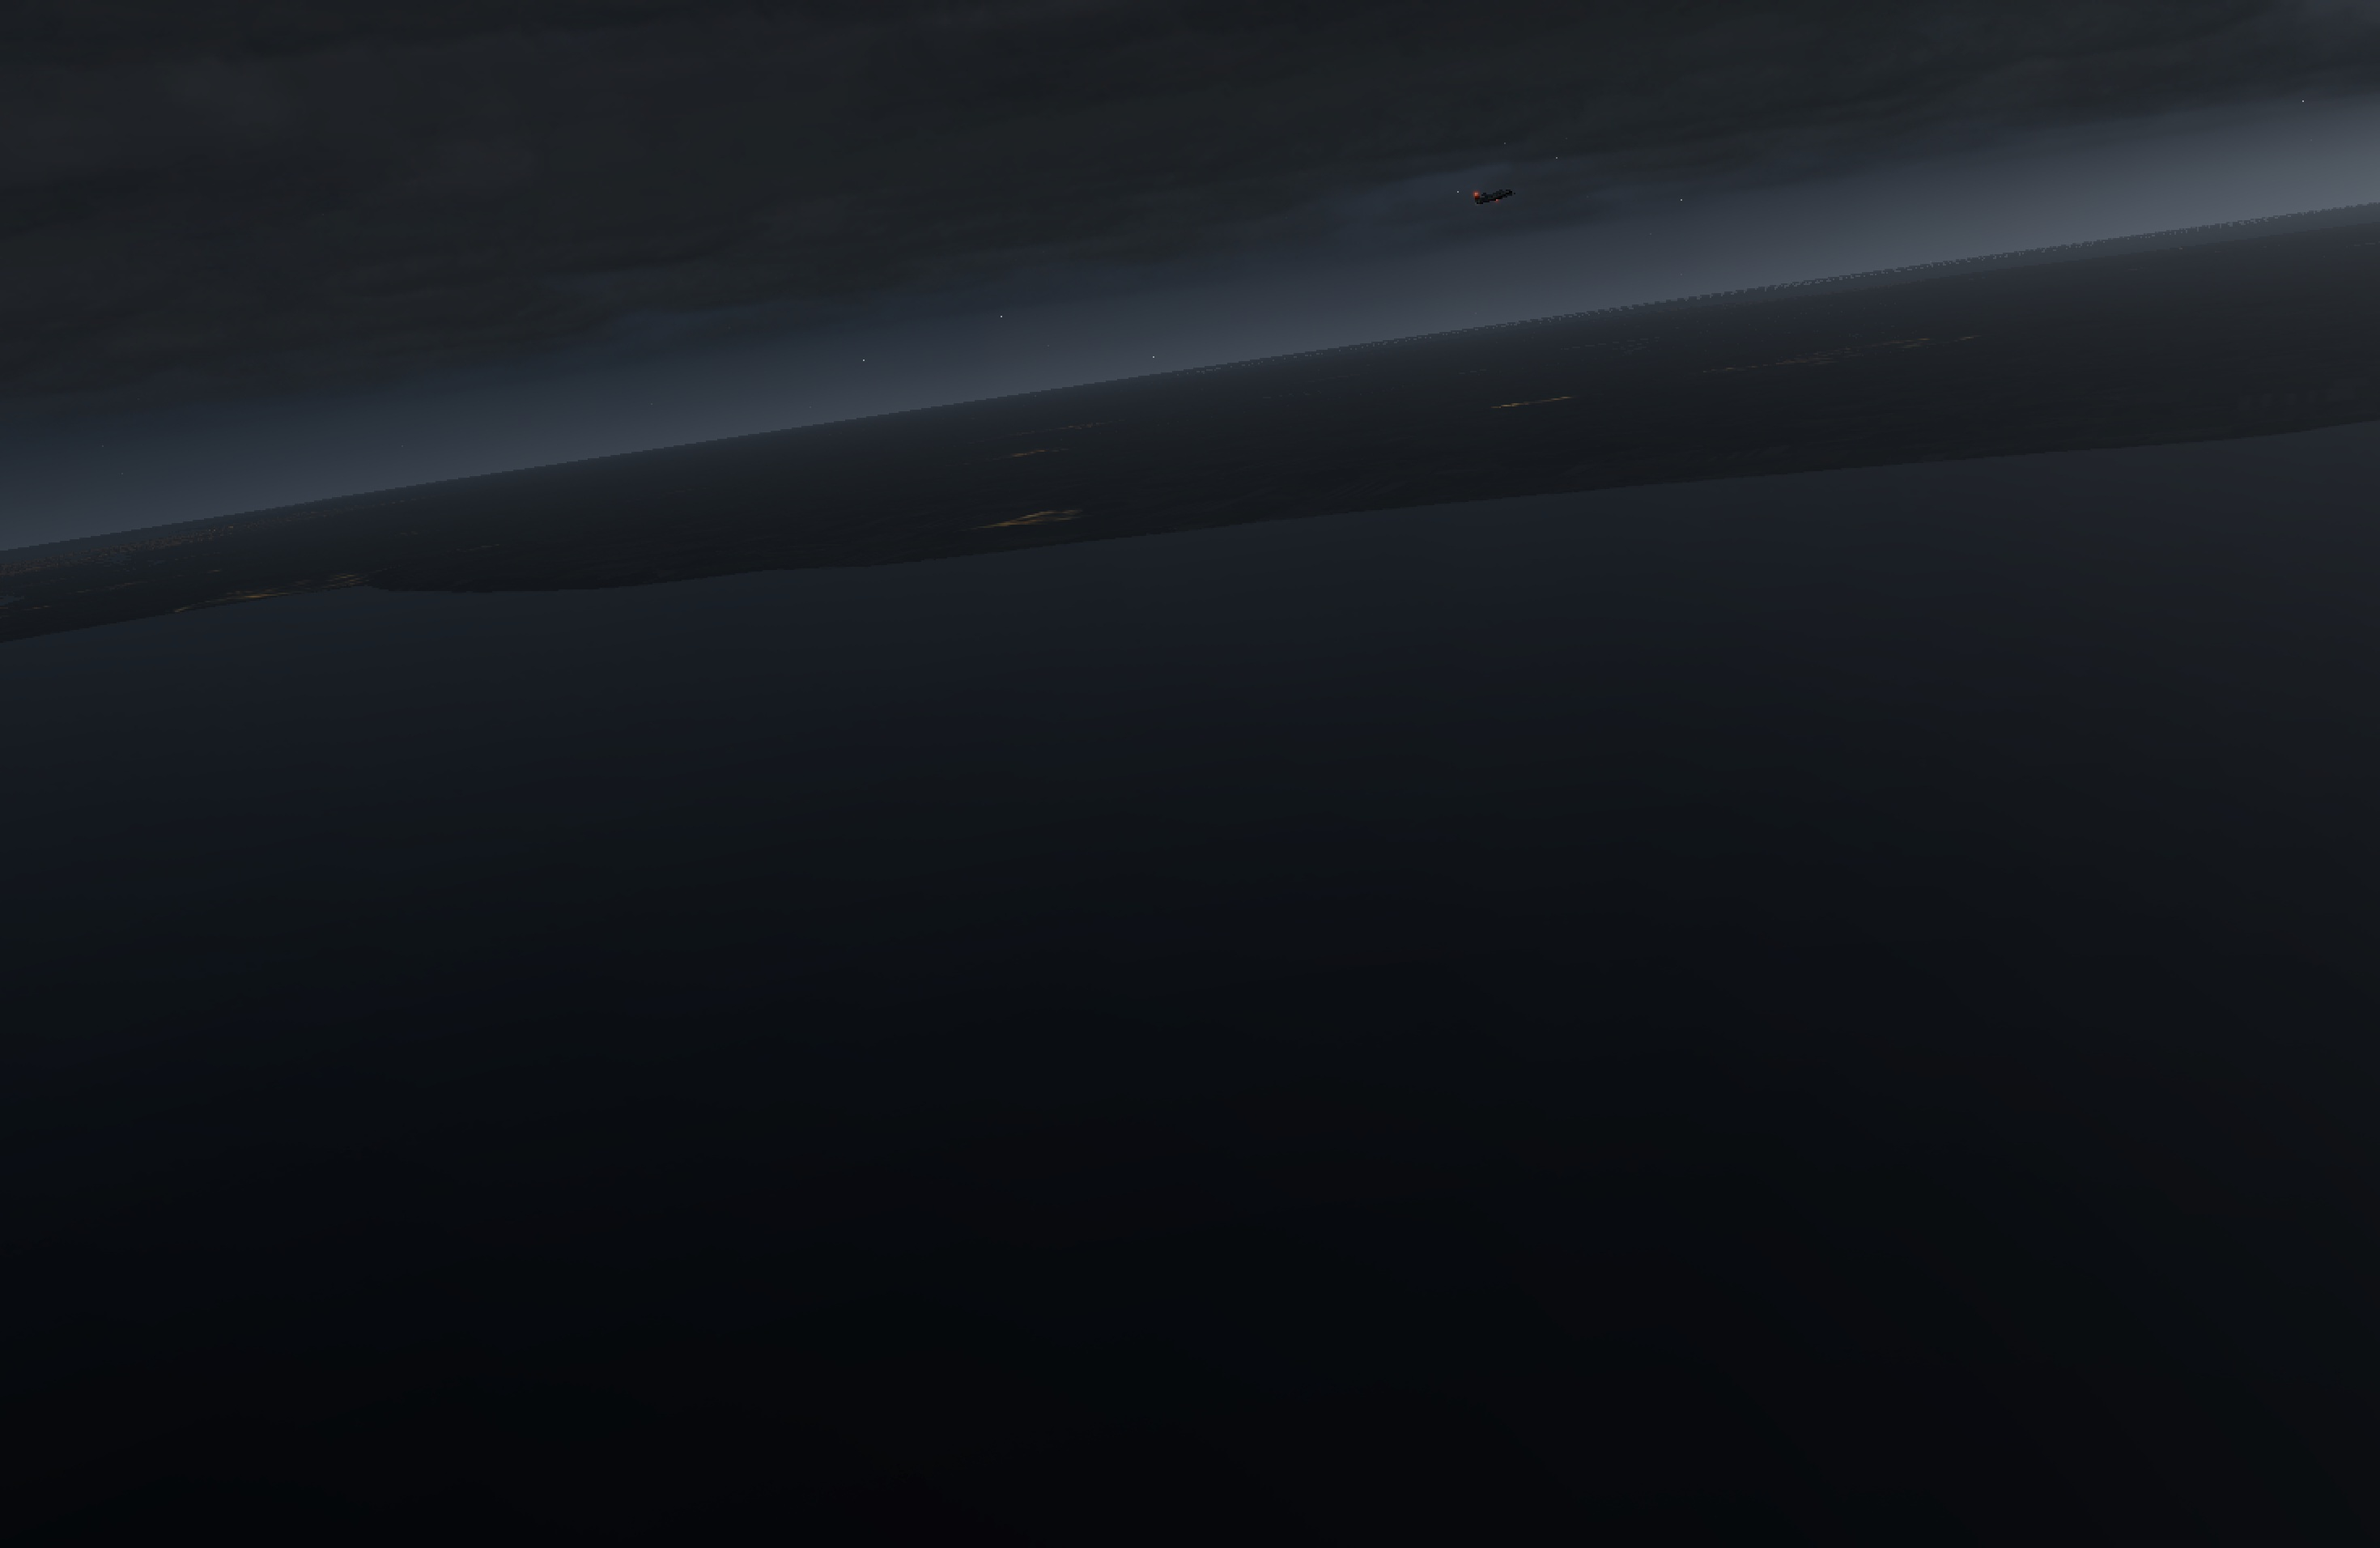aircraft: (1471, 186, 1530, 208)
